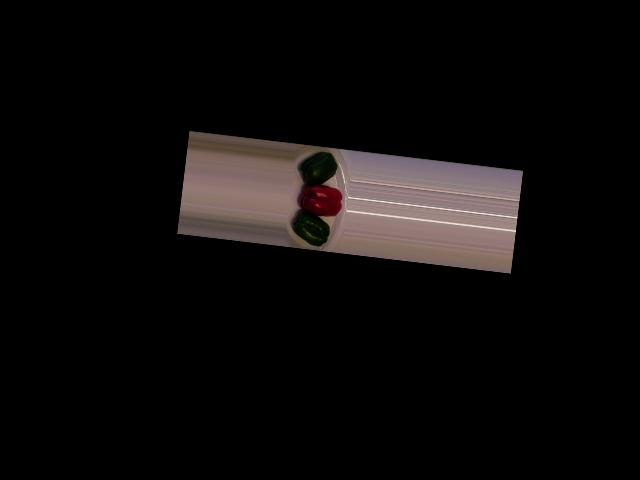bell_pepper: (294, 146, 343, 188)
